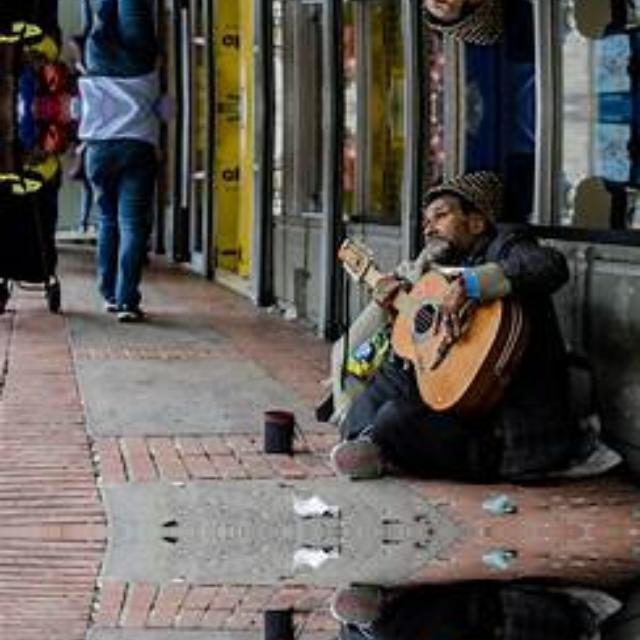person: (334, 173, 586, 483), (334, 581, 586, 640), (334, 0, 586, 41)
